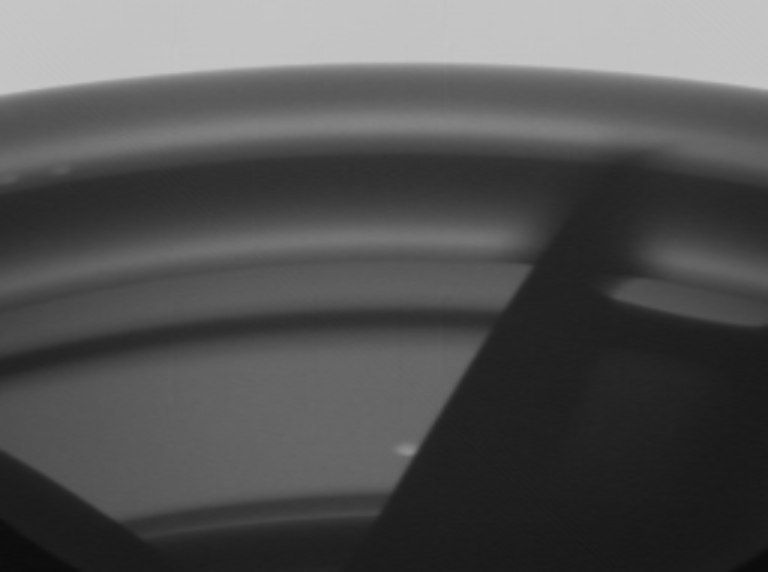defect: (39, 156, 93, 190)
